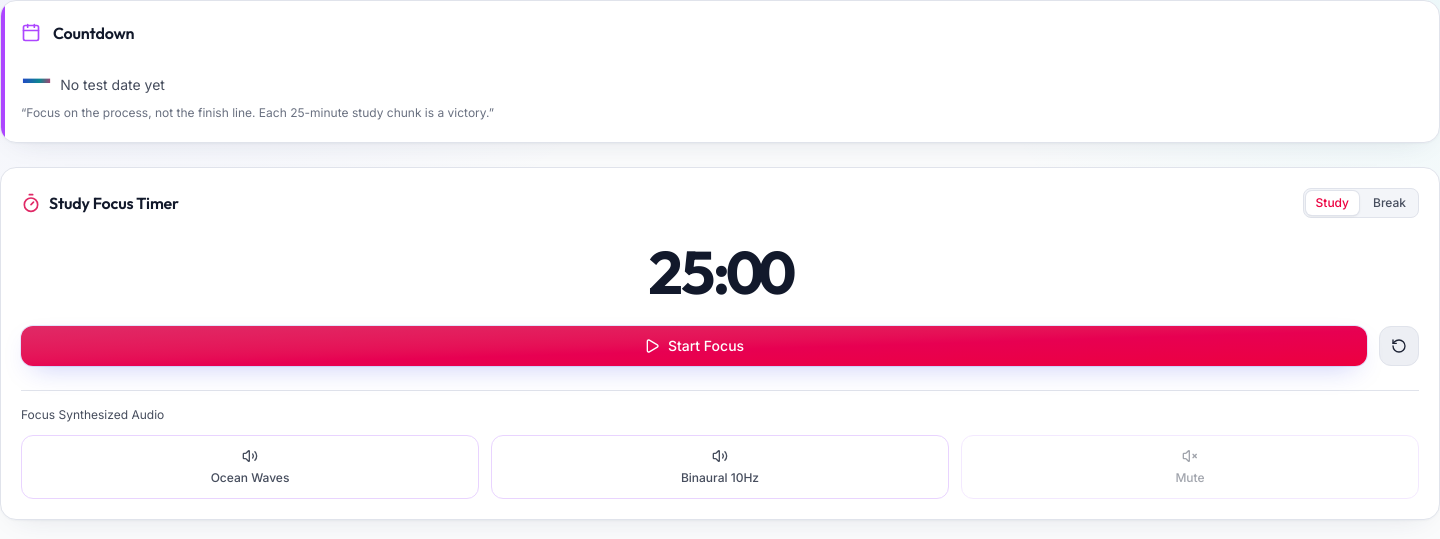
Test: FocusMode › resets to the full block
What coordinates should you click on to do the following:
click the button with aria-label "Start focus timer"
I would click on:
 (694, 346)
Its box is [21, 326, 1367, 366].
Wait 90000 ms
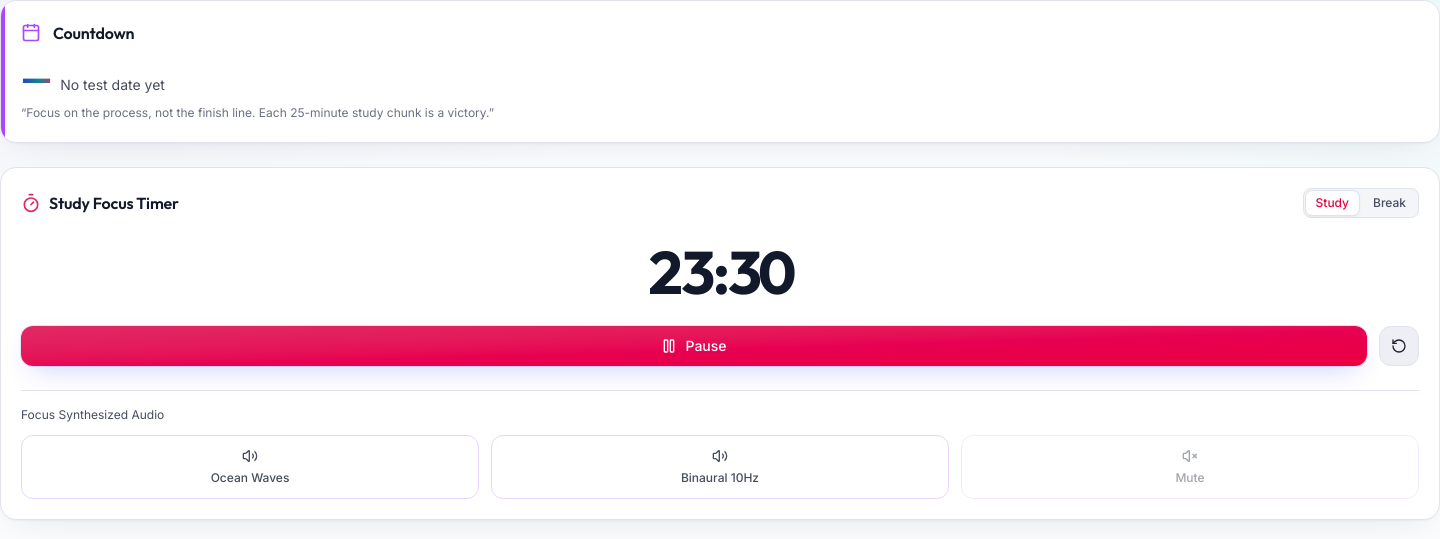
What coordinates should you click on to do the following:
click the button named "Reset study timer"
I would click on:
 (1399, 346)
Its box is [1379, 326, 1419, 366].
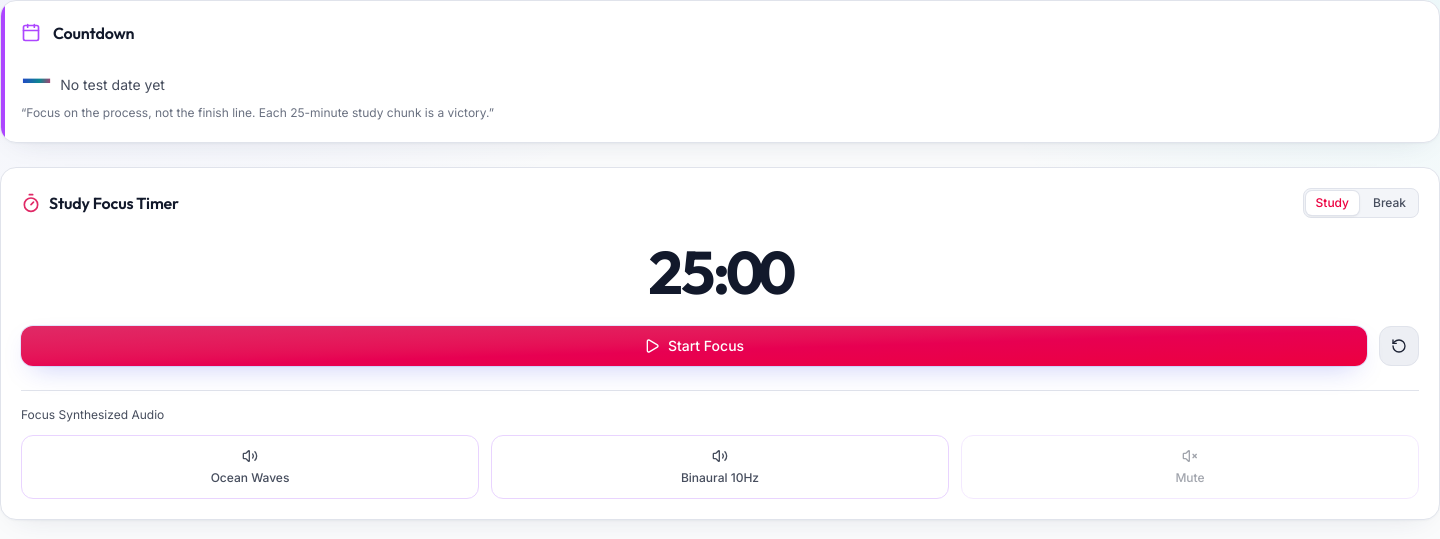
Now the text "25:00" is shown, box [648, 234, 792, 310]
Now the button with aria-label "Start focus timer" is shown, box [21, 326, 1367, 366]
